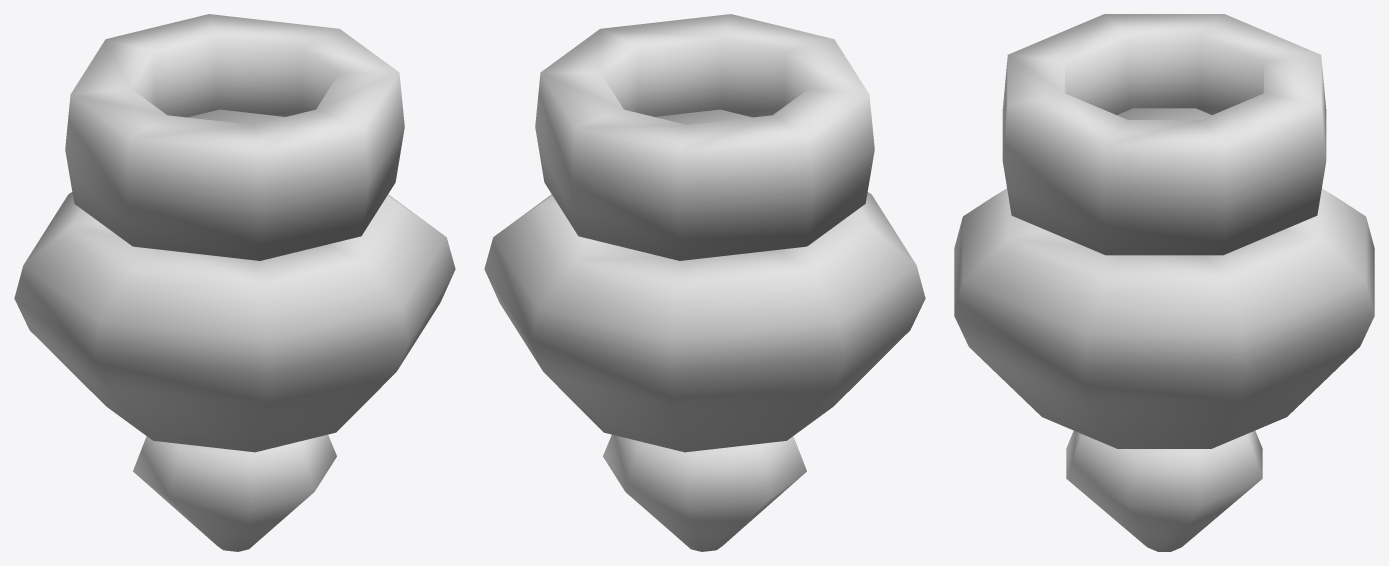
The model's file is stone_pommel_150.glb.
The picture shows the model from 3 angles, left to right: view 1: azimuth 30°, elevation 25°; view 2: azimuth 150°, elevation 25°; view 3: azimuth 270°, elevation 25°; orthographic projection.
Visible parts, largest first — view 1: stone_pommel.150; view 2: stone_pommel.150; view 3: stone_pommel.150.
Part boxes in pixels (box(x1,y1,x2,y2)): stone_pommel.150: box(14, 14, 455, 551); stone_pommel.150: box(484, 14, 925, 551); stone_pommel.150: box(954, 14, 1374, 551).
Size of the model in its own units: 2.1 by 2.58 by 2.1.
1 material, 1 textured.
